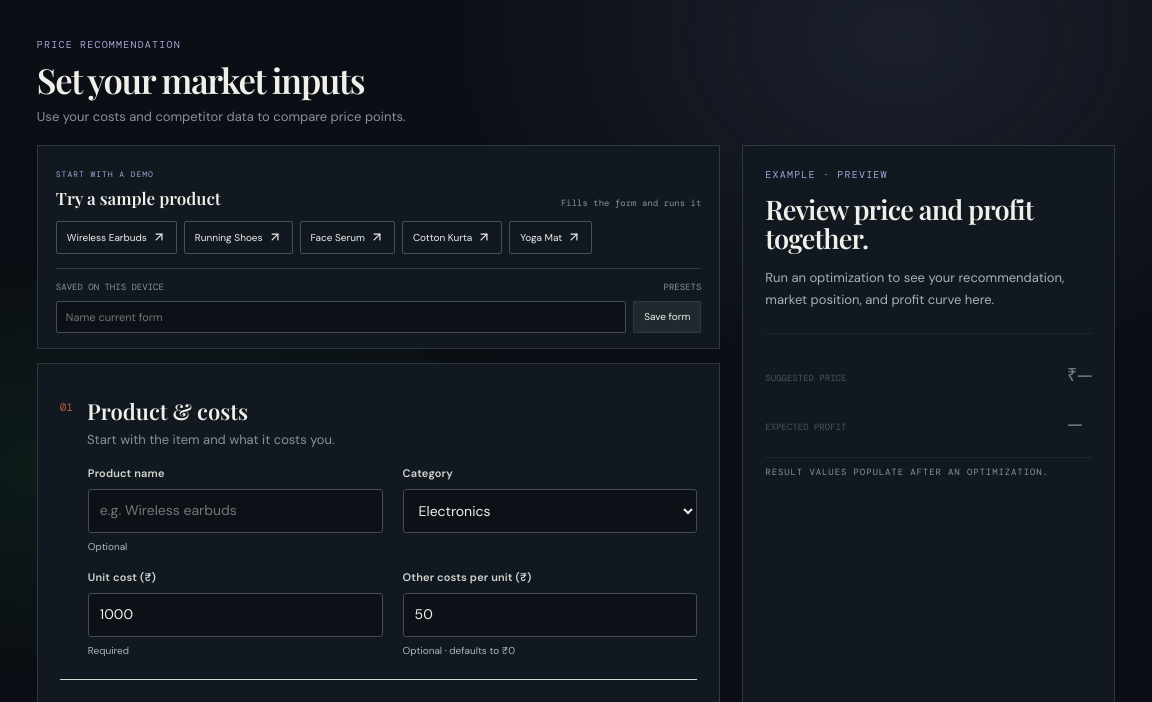
Test case: PriceOptimizer › shows a readable message when browser storage throws
The image size is (1152, 702).
Type "My item" into the field named "Name this preset" at {"x": 341, "y": 317}, box [56, 300, 626, 333]
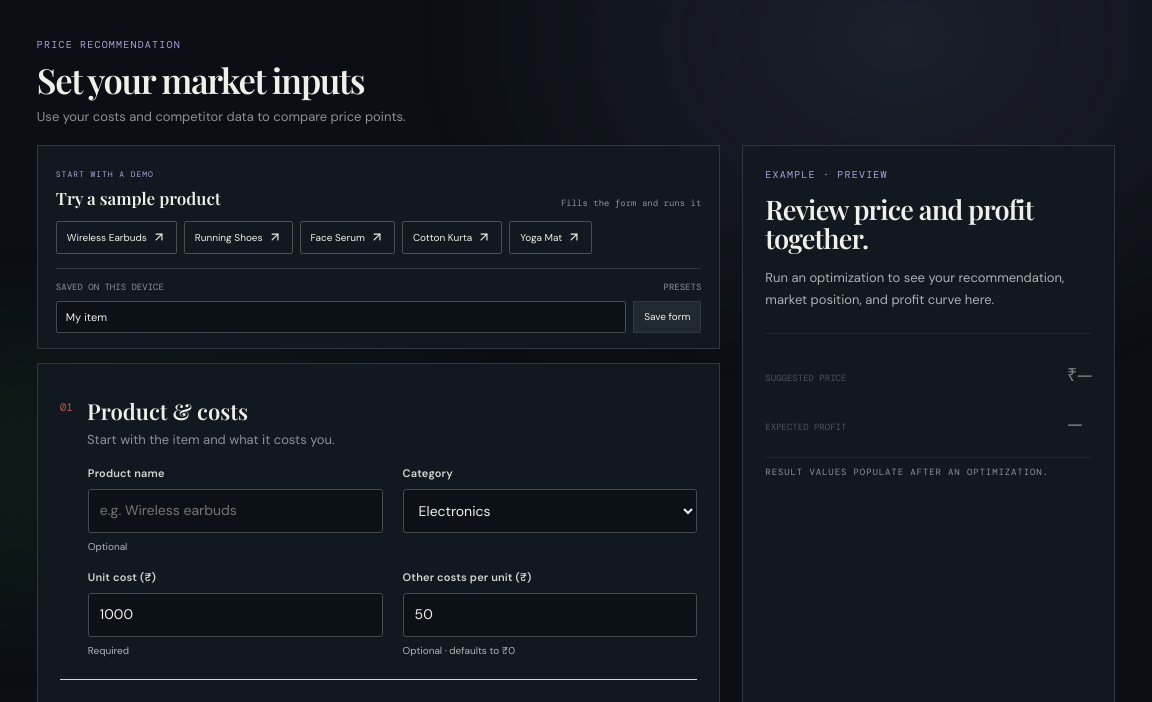
Click the button "Save form" at {"x": 667, "y": 317}, box [633, 300, 701, 333]
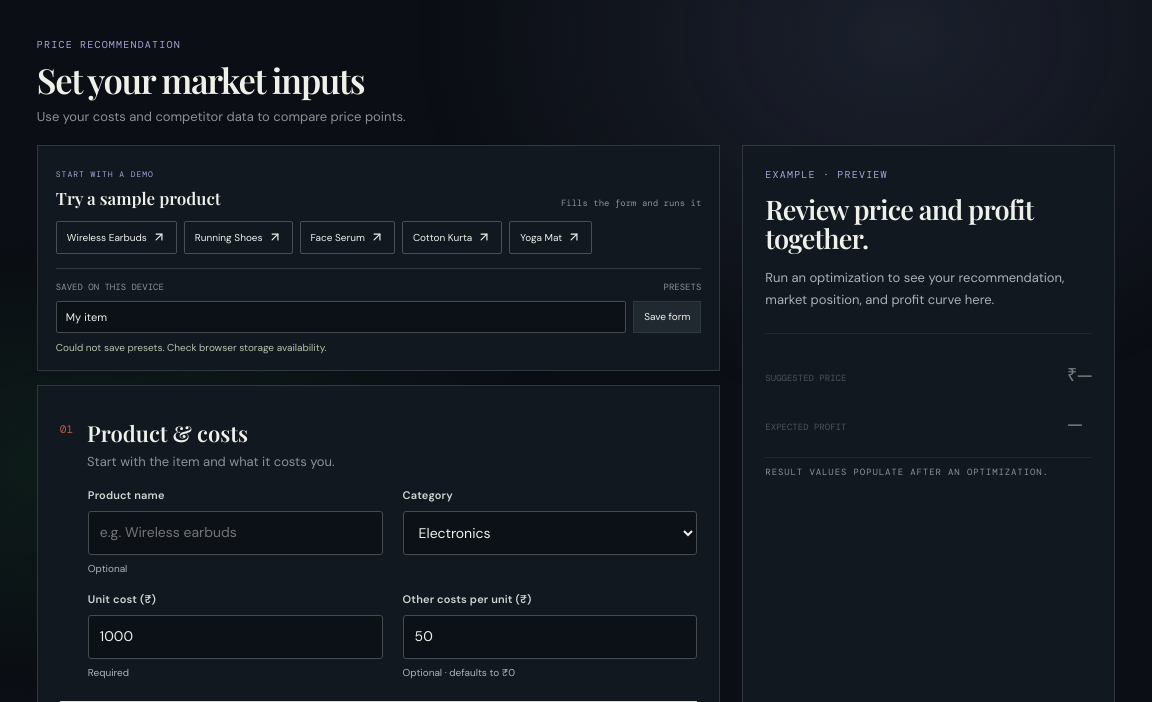
Check: the text "Could not save presets. Check browser storage availability." is shown, box [56, 341, 326, 354]
